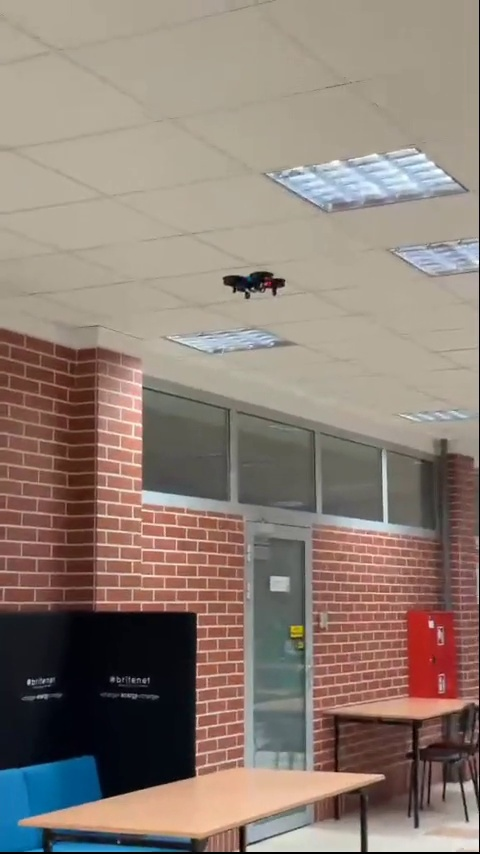drone: (218, 267, 288, 301)
